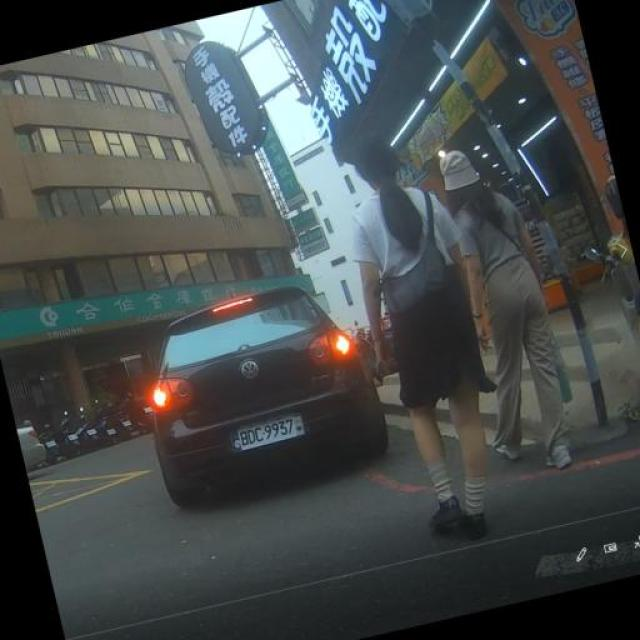illegalparking: (130, 261, 388, 515)
